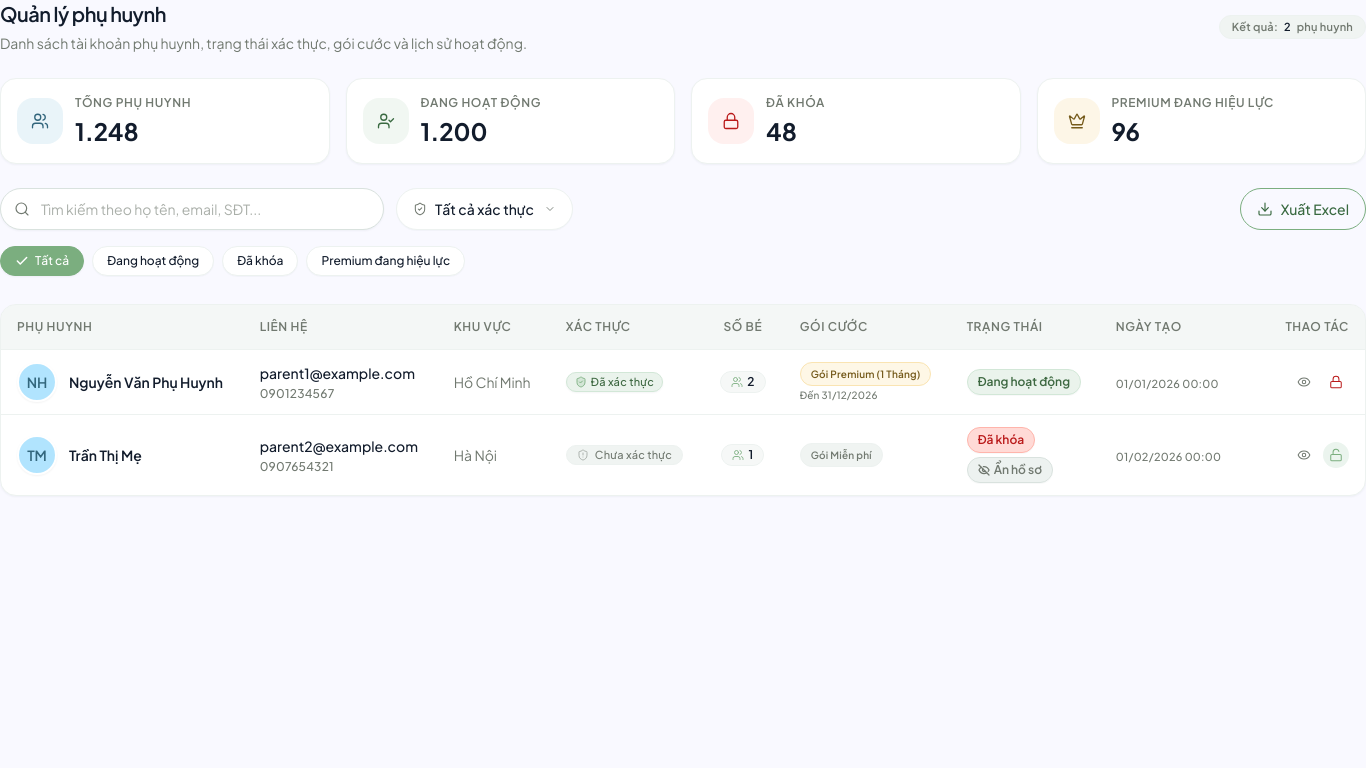
Test: AdminUserManagementPage › opens detail drawer when row is clicked and loads profile + payments
Click the text "Nguyễn Văn Phụ Huynh" at (146, 382), box [69,371,223,393]
(page scrolled)
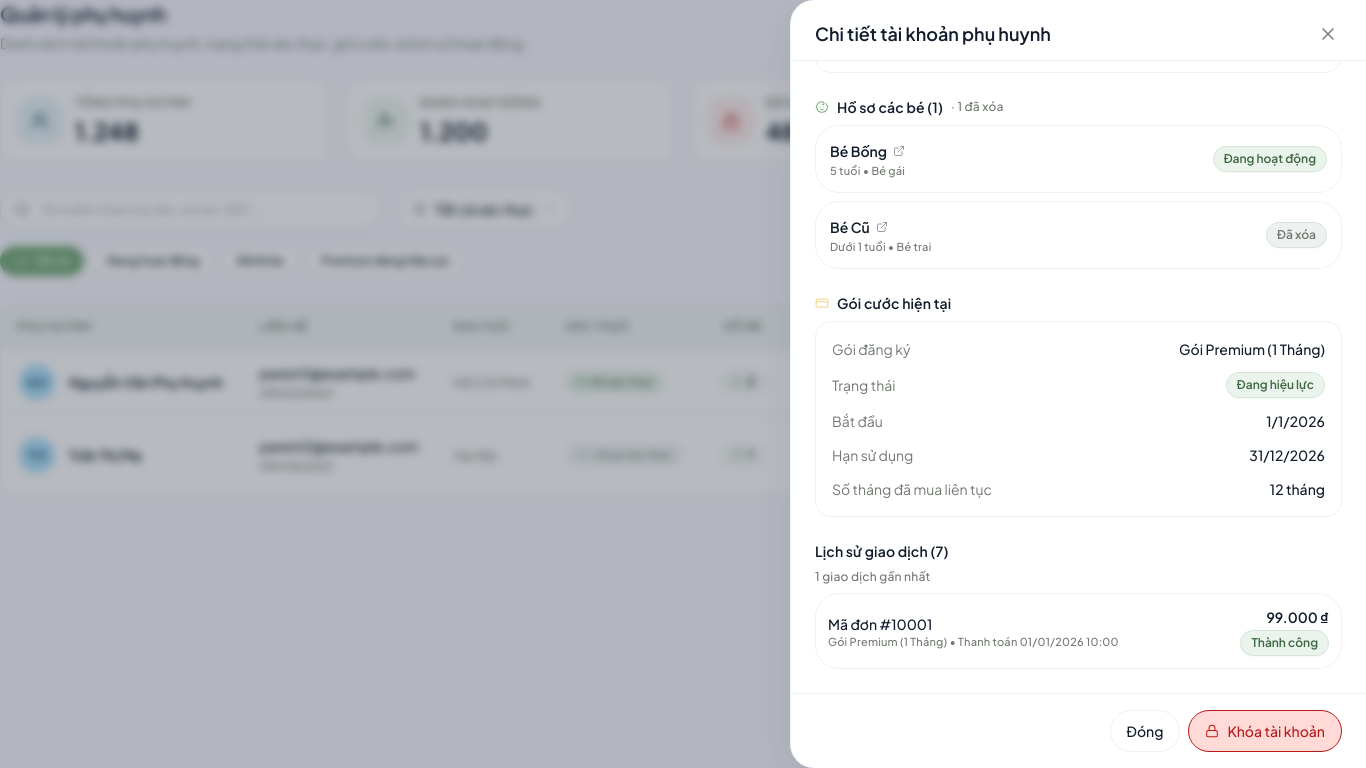
Check: the heading "Chi tiết tài khoản phụ huynh" is shown, box [815,20,1051,48]
Check: the text "Bé Bống" is shown, box [830,140,905,162]
Check: the heading "Lịch sử giao dịch (7)" is shown, box [815,542,948,560]
